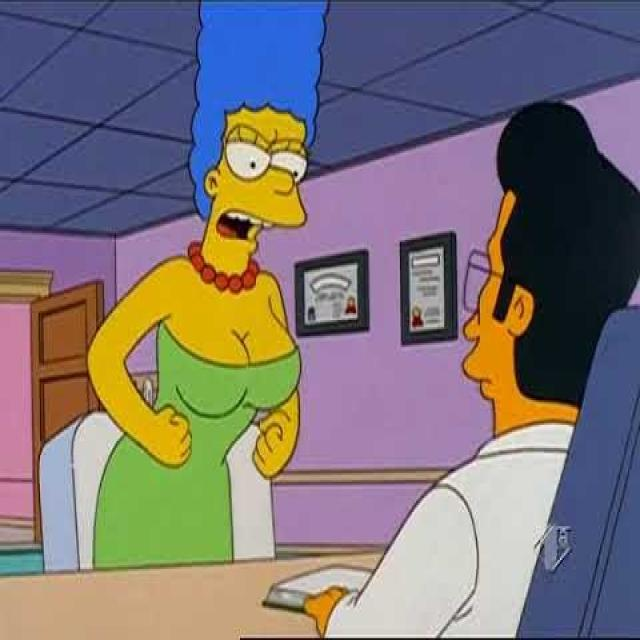Marge Simpson: (184, 0, 333, 299)
